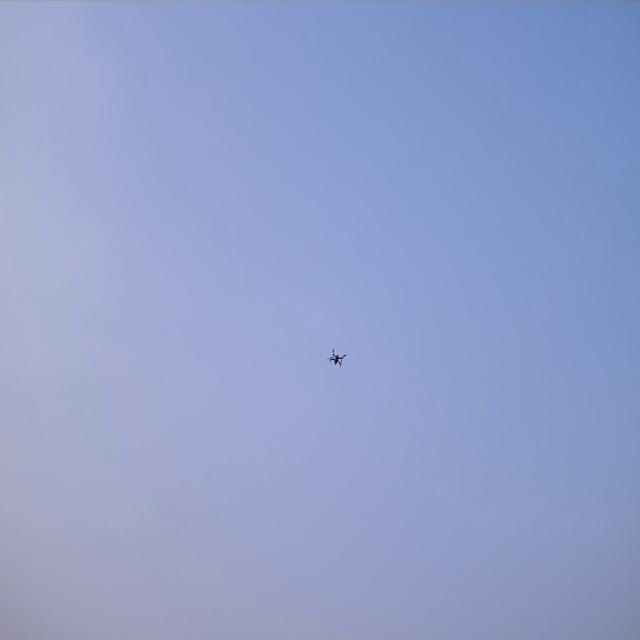UAV: (327, 347, 348, 369)
